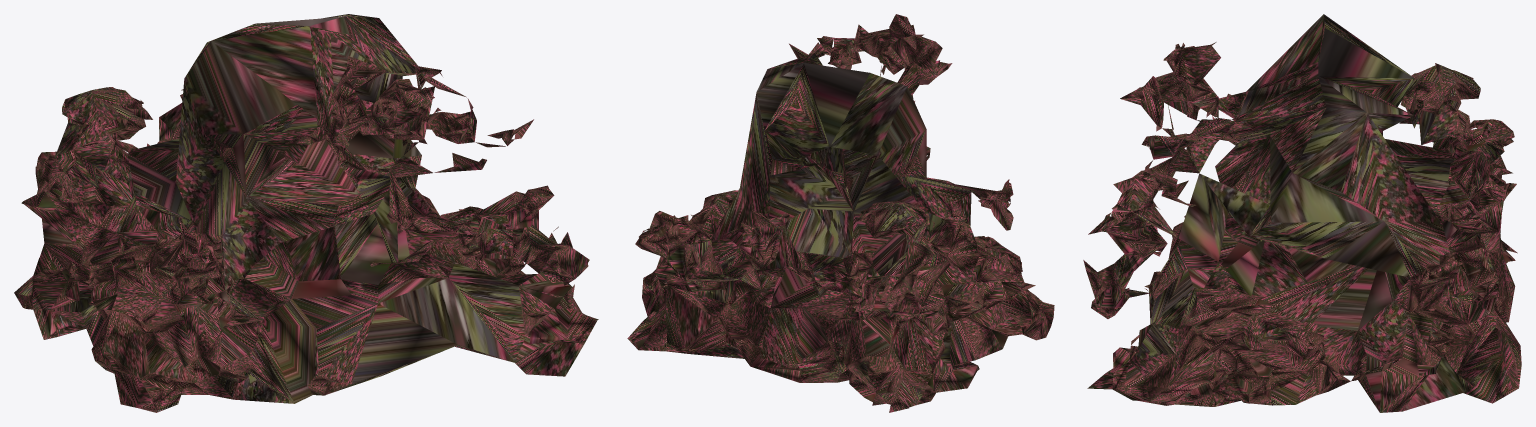
File: lib_mtn_house.lod2.glb
3 renders of one model, left to right at view 1: azimuth 30°, elevation 25°; view 2: azimuth 150°, elevation 25°; view 3: azimuth 270°, elevation 25°, orthographic. The views are drawn at different scales.
Visible parts, largest first — view 1: output_unwrapped; view 2: output_unwrapped; view 3: output_unwrapped.
Boxes of the visible parts, box(x1,y1,x2,y2) form: output_unwrapped: box(14, 14, 598, 412); output_unwrapped: box(627, 14, 1054, 412); output_unwrapped: box(1083, 14, 1521, 412).
Bounding box in the file's own units: 1.98 × 1.44 × 1.98.
Materials: 1 (1 with a texture image).
